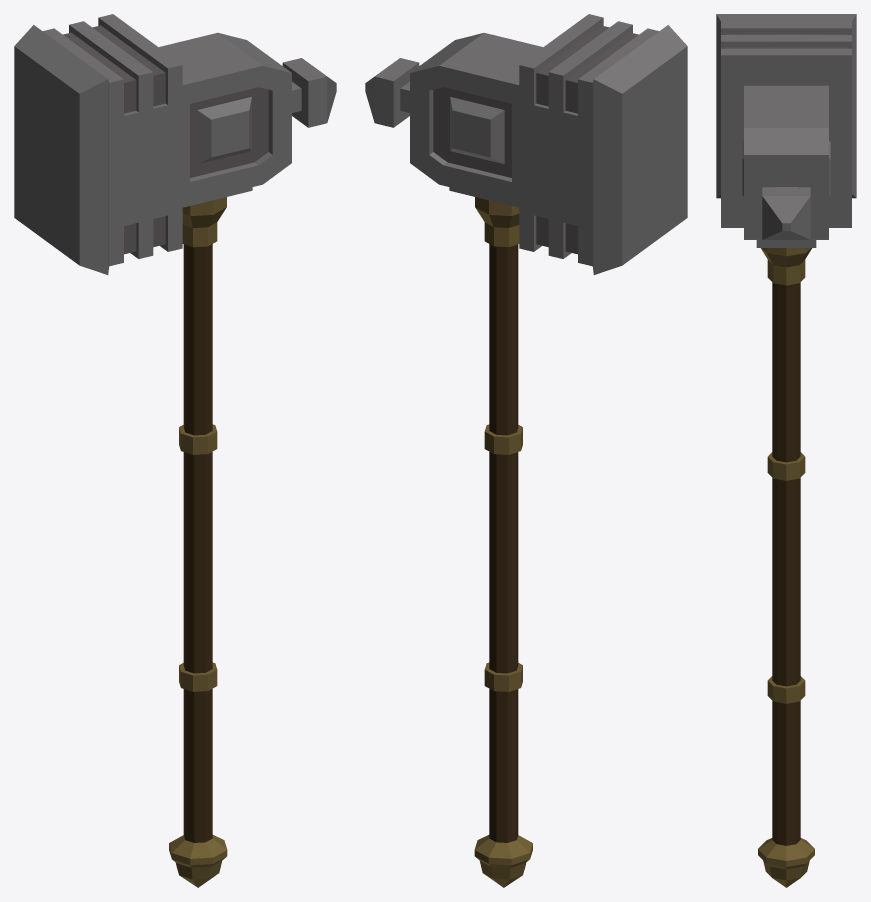
File: gravity-hammer.glb
The picture shows the model from 3 angles, left to right: view 1: azimuth 30°, elevation 25°; view 2: azimuth 150°, elevation 25°; view 3: azimuth 270°, elevation 25°; orthographic projection. The views are drawn at different scales.
Visible parts, largest first — view 1: hammer; view 2: hammer; view 3: hammer.
Boxes of the visible parts, x1,y1,x2,y2 form: hammer: (14,14,336,887); hammer: (365,14,687,887); hammer: (716,14,856,887).
Bounding box in the file's own units: 0.5057 × 1.46 × 0.227.
